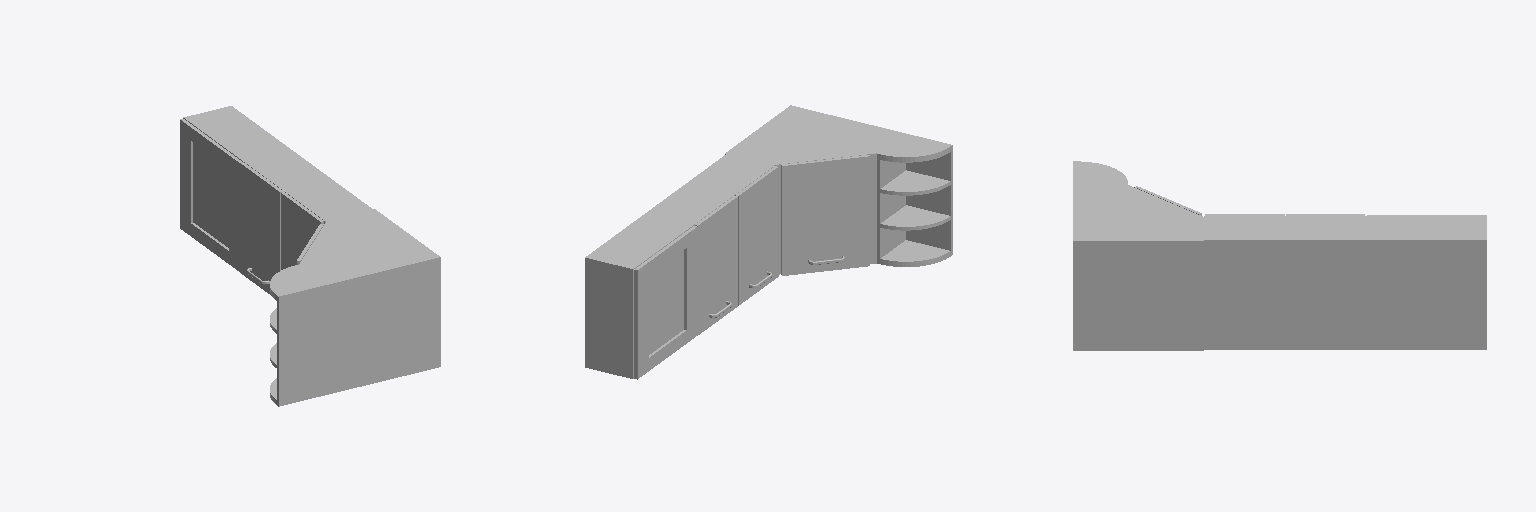
The model's file is LV_upperShelf.obj.
3 views of the same model, side by side, from view 1: azimuth 30°, elevation 25°; view 2: azimuth 150°, elevation 25°; view 3: azimuth 270°, elevation 25° (orthographic).
Visible parts, largest first — view 1: Box172_2_340; view 2: Box172_2_340; view 3: Box172_2_340.
Part boxes in pixels (x1,y1,x2,y2): Box172_2_340: (180, 106, 440, 406); Box172_2_340: (585, 105, 952, 379); Box172_2_340: (1073, 161, 1486, 350).
Size of the model in its own units: 1.51 by 0.9771 by 3.34.